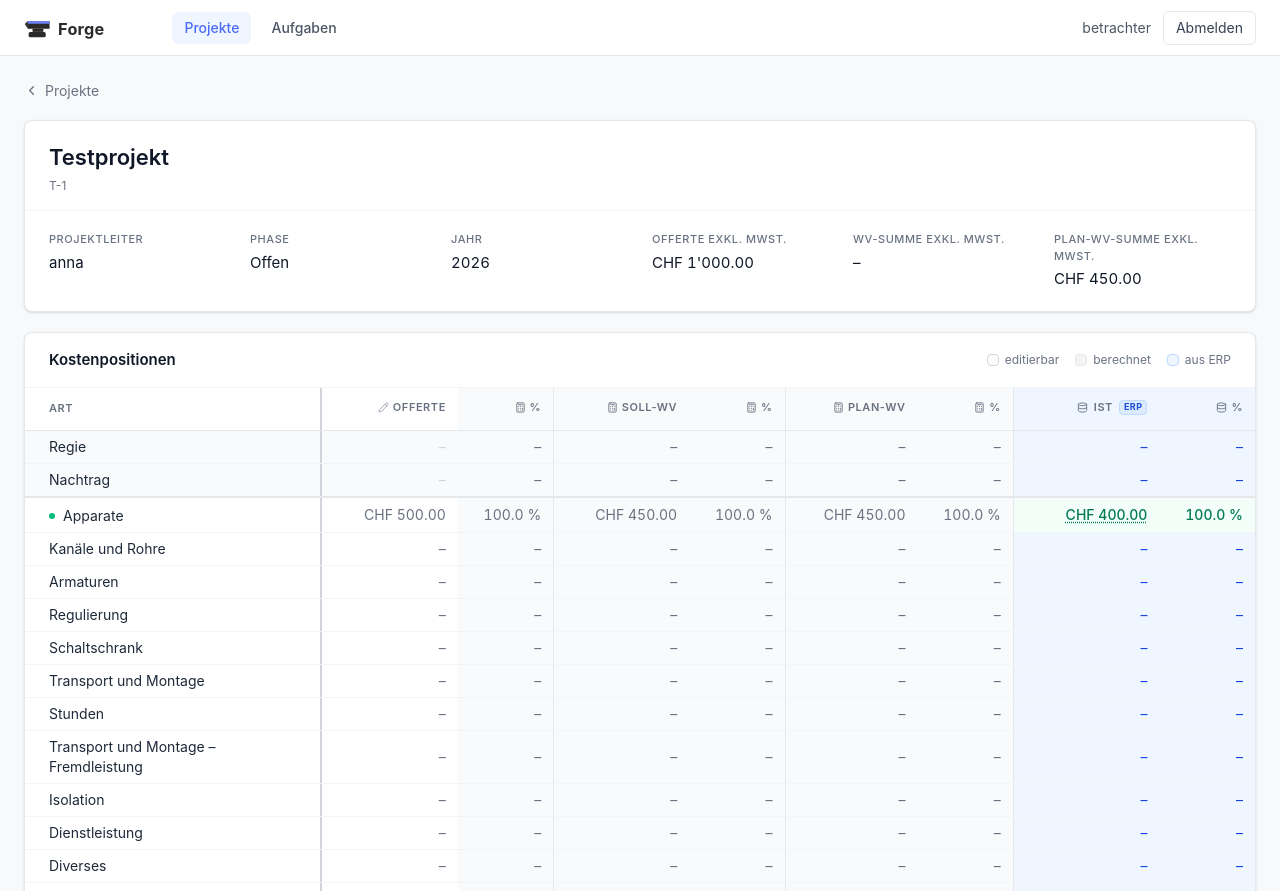
Test: ProjektDetailPage – Rechnungen-Pop-up › lädt bei jedem Öffnen neu, statt den letzten Stand zu behalten
The width and height of the screenshot is (1280, 891).
Click the button "CHF 400.00". click: x=1106, y=515
box: [1066, 505, 1147, 525]
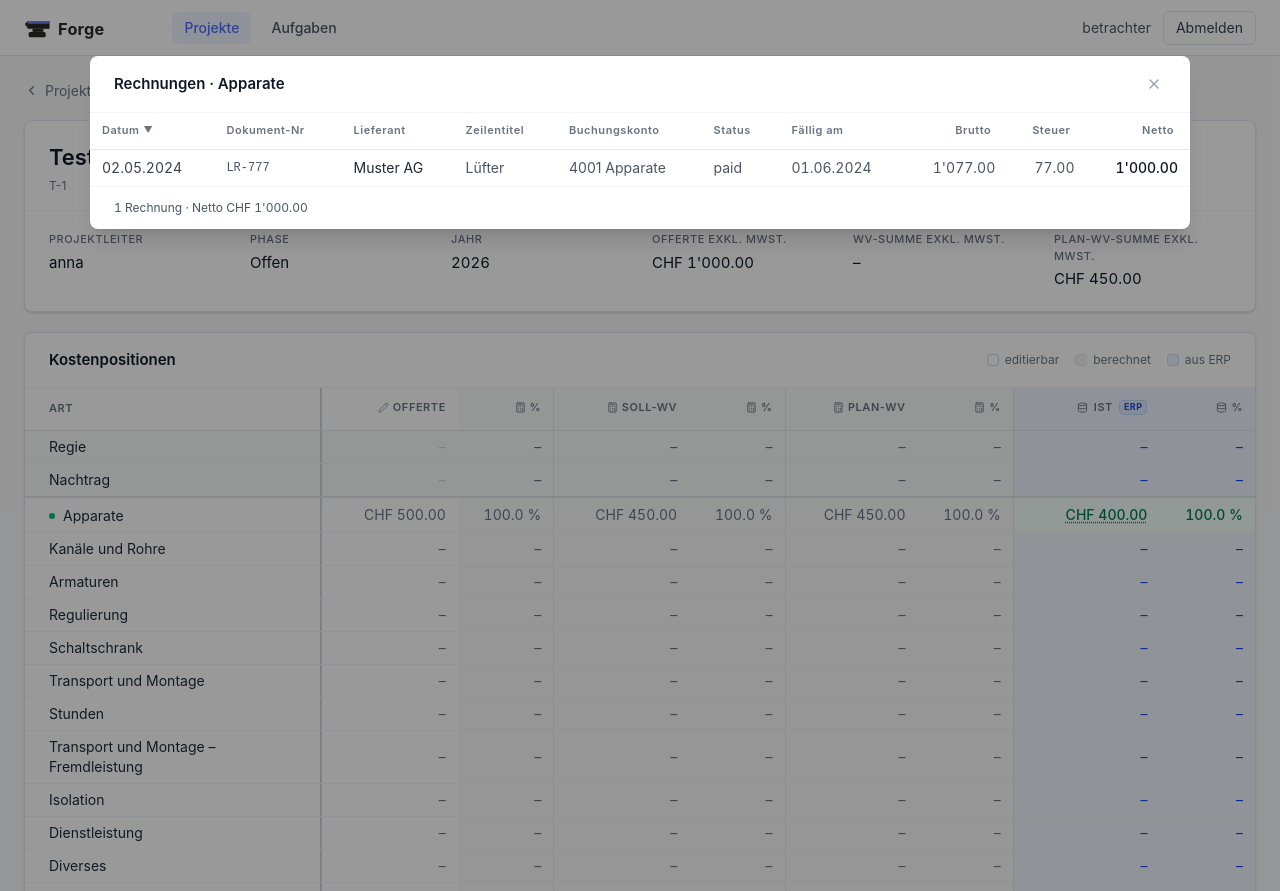
Now the text "LR-777" is shown, box [214, 149, 342, 186]
Click the button named "Schliessen". click: x=1154, y=84
box: [1142, 72, 1166, 96]
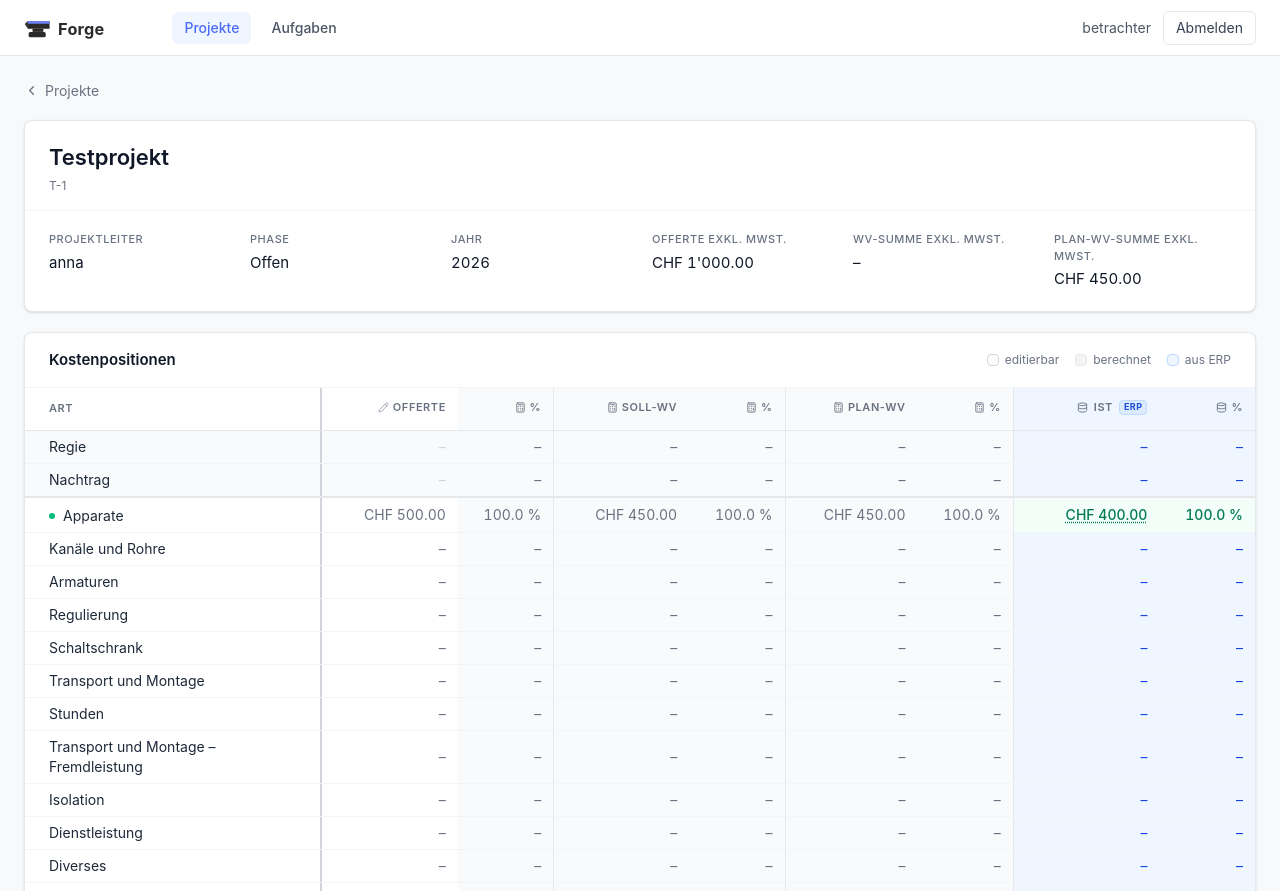
Click the button "CHF 400.00". click: x=1106, y=515
box: [1066, 505, 1147, 525]
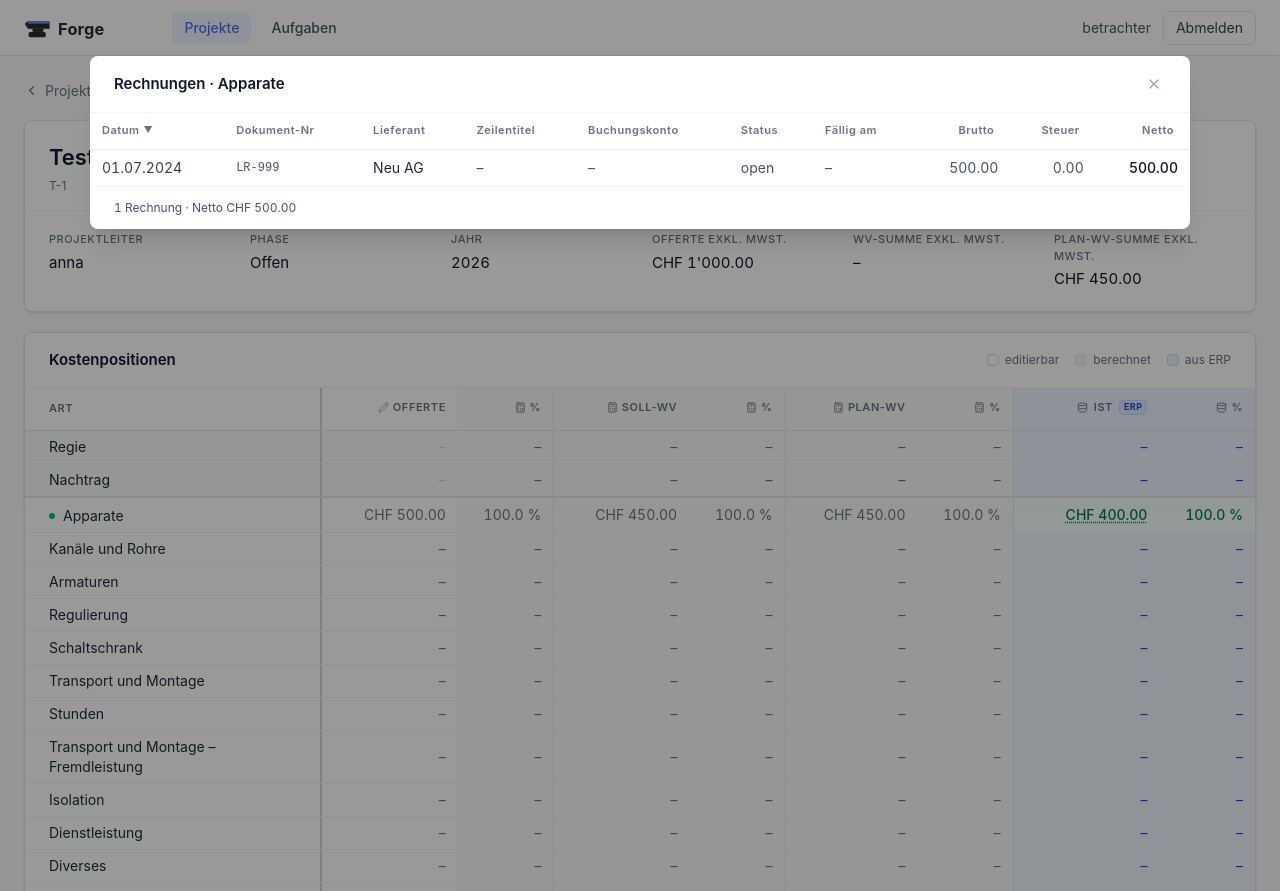
Expected: the text "LR-777" is not shown
Now the text "LR-999" is shown, box [224, 149, 361, 186]
